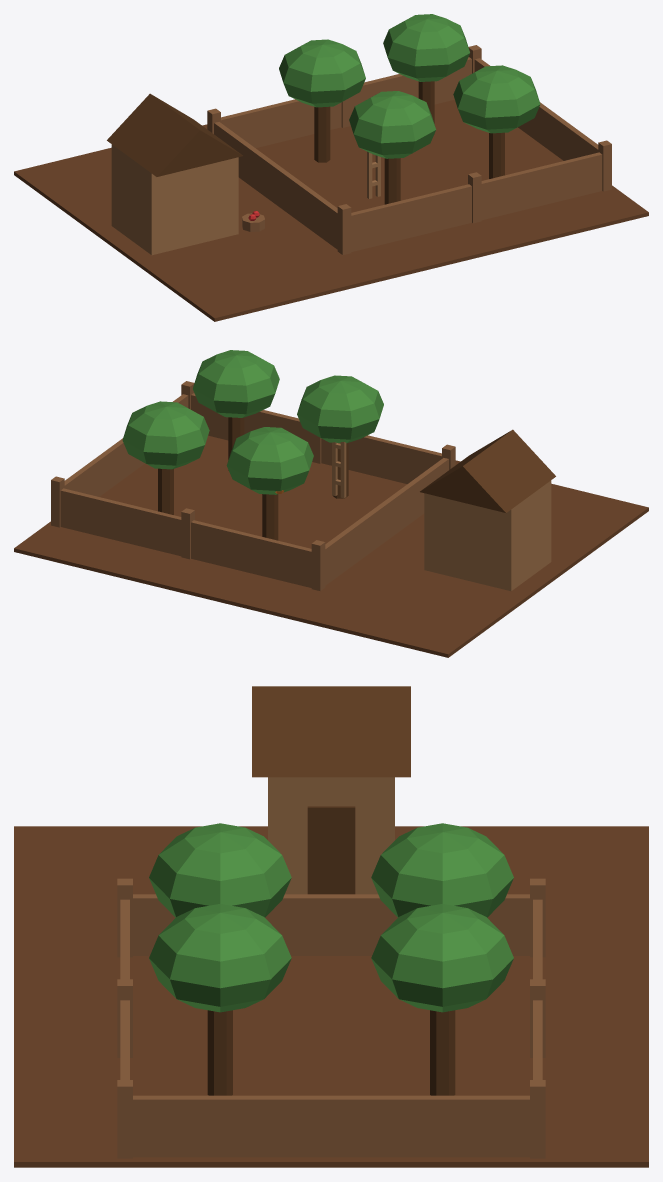
The model's file is orchard.glb.
The picture shows the model from 3 angles, top to bottom: view 1: azimuth 30°, elevation 25°; view 2: azimuth 150°, elevation 25°; view 3: azimuth 270°, elevation 25°; orthographic projection. The views are drawn at different scales.
Parts seen in each view (by area): view 1: Ground, Shed_Walls, Fence_F, Shed_Roof, Fence_B, Fence_L, Canopy_0, Canopy_3, Canopy_2, Canopy_1, Fence_R, Trunk_1 (+5 smaller); view 2: Ground, Shed_Walls, Fence_B, Shed_Roof, Fence_F, Fence_L, Canopy_2, Canopy_3, Canopy_0, Canopy_1, Fence_R, Trunk_1 (+4 smaller); view 3: Ground, Fence_R, Shed_Roof, Canopy_2, Canopy_3, Fence_L, Canopy_0, Canopy_1, Shed_Walls, Shed_Door, Trunk_2, Trunk_3 (+8 smaller).
Boxes of the visible parts, bbox=[...] form: Ground: bbox=[14, 99, 648, 321]; Shed_Walls: bbox=[111, 144, 238, 255]; Fence_F: bbox=[351, 152, 602, 251]; Shed_Roof: bbox=[107, 93, 242, 176]; Fence_B: bbox=[221, 57, 471, 148]; Fence_L: bbox=[214, 122, 337, 249]; Canopy_0: bbox=[349, 91, 436, 158]; Canopy_3: bbox=[383, 14, 469, 81]; Canopy_2: bbox=[453, 65, 540, 133]; Canopy_1: bbox=[279, 39, 365, 107]; Fence_R: bbox=[474, 58, 598, 160]; Trunk_1: bbox=[314, 106, 330, 162]; Ground: bbox=[14, 435, 648, 657]; Shed_Walls: bbox=[424, 480, 551, 591]; Fence_B: bbox=[60, 488, 311, 587]; Shed_Roof: bbox=[420, 429, 555, 512]; Fence_F: bbox=[191, 393, 441, 484]; Fence_L: bbox=[325, 458, 448, 585]; Canopy_2: bbox=[193, 350, 279, 417]; Canopy_3: bbox=[122, 401, 209, 469]; Canopy_0: bbox=[297, 375, 383, 443]; Canopy_1: bbox=[226, 427, 313, 494]; Fence_R: bbox=[64, 394, 188, 496]; Trunk_1: bbox=[262, 494, 278, 540]; Ground: bbox=[14, 826, 648, 1167]; Fence_R: bbox=[133, 1095, 529, 1157]; Shed_Roof: bbox=[252, 686, 410, 777]; Canopy_2: bbox=[149, 903, 291, 1012]; Canopy_3: bbox=[371, 903, 513, 1012]; Fence_L: bbox=[133, 894, 529, 955]; Canopy_0: bbox=[149, 823, 291, 917]; Canopy_1: bbox=[371, 823, 513, 917]; Shed_Walls: bbox=[268, 777, 394, 894]; Shed_Door: bbox=[307, 806, 355, 894]; Trunk_2: bbox=[207, 1010, 232, 1095]; Trunk_3: bbox=[430, 1010, 455, 1095].
Size of the model in its own units: 5 by 1.34 by 4.
